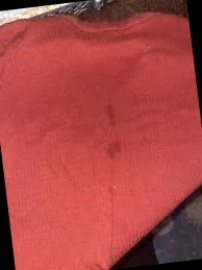oil: (101, 137, 130, 159), (107, 108, 123, 125)
